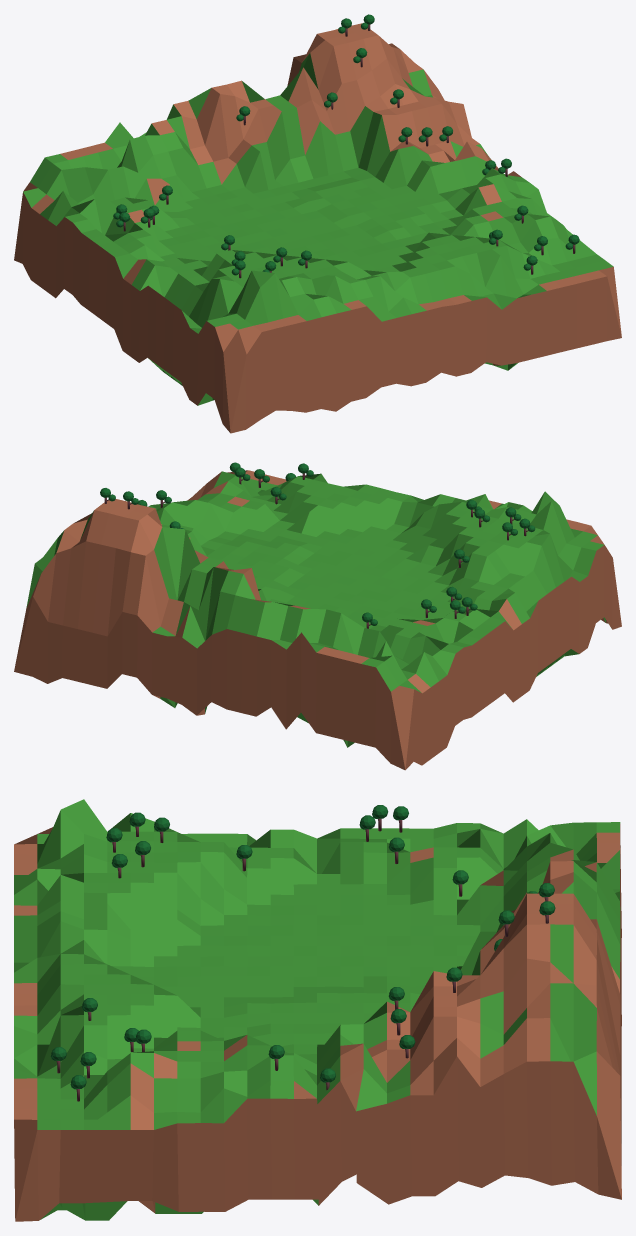
The model's file is plain_terrain.fbx.
3 renders of one model, top to bottom at view 1: azimuth 30°, elevation 25°; view 2: azimuth 150°, elevation 25°; view 3: azimuth 270°, elevation 25°, orthographic. The views are drawn at different scales.
Parts seen in each view (by area): view 1: Plane; view 2: Plane; view 3: Plane.
Boxes of the visible parts, x1,y1,x2,y2 form: Plane: [14, 23, 621, 433]; Plane: [14, 470, 621, 770]; Plane: [14, 799, 621, 1221].
Size of what is drawn, in the model's own units: 14478 by 7492 by 13814.
